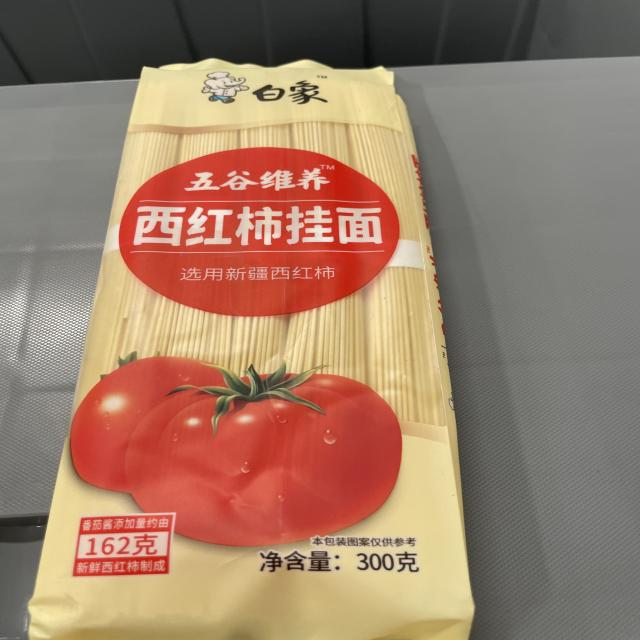object_name: (85, 70, 442, 640)
